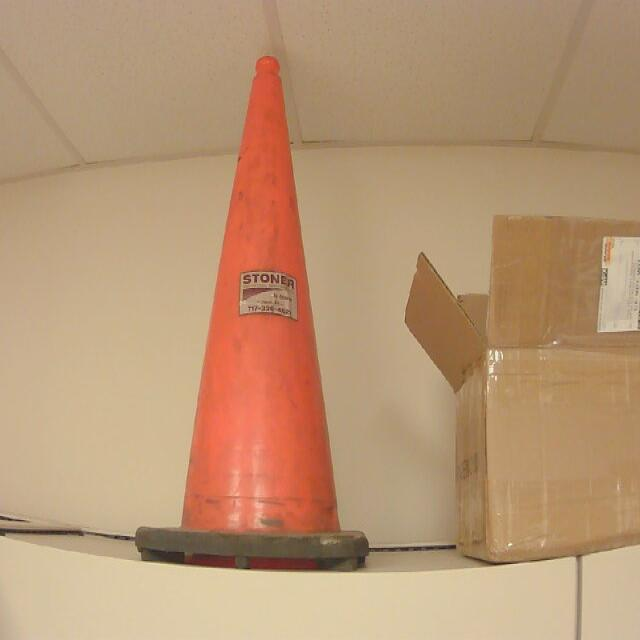traffic cone: (134, 57, 371, 576)
